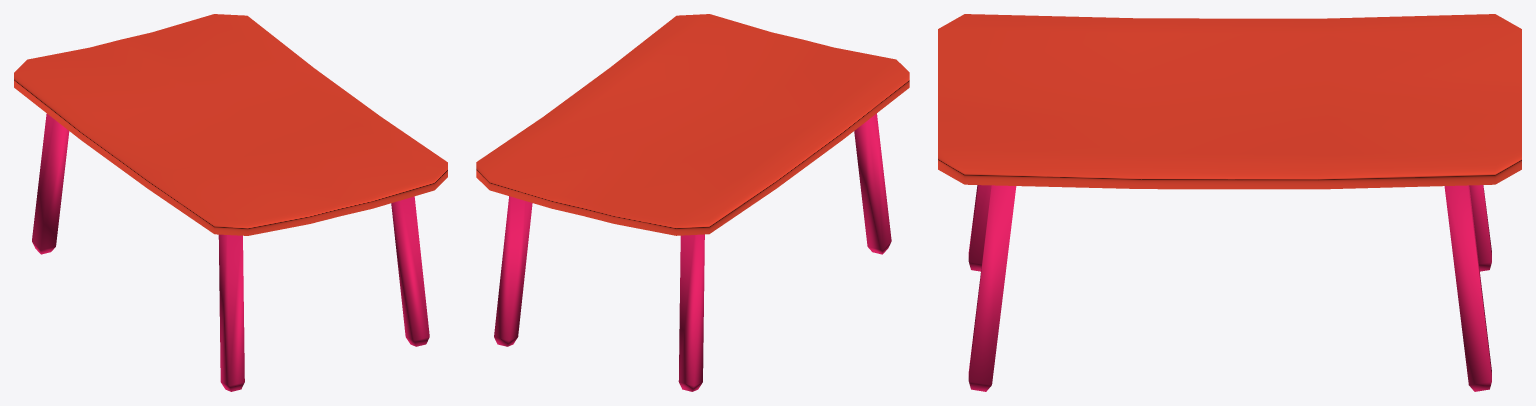
The model's file is mesa.fbx.
3 renders of one model, left to right at view 1: azimuth 30°, elevation 25°; view 2: azimuth 150°, elevation 25°; view 3: azimuth 270°, elevation 25°, orthographic. The views are drawn at different scales.
Parts seen in each view (by area): view 1: Mesa; view 2: Mesa; view 3: Mesa.
Part boxes in pixels (bbox=[...]): Mesa: bbox=[14, 14, 447, 391]; Mesa: bbox=[476, 14, 909, 391]; Mesa: bbox=[938, 14, 1521, 391].
Bounding box in the file's own units: 905 × 671 × 1481.
